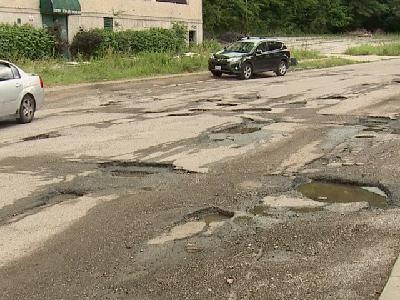pothole: (291, 172, 397, 211), (155, 203, 238, 242), (95, 156, 198, 179), (39, 188, 86, 206), (210, 122, 264, 135)
